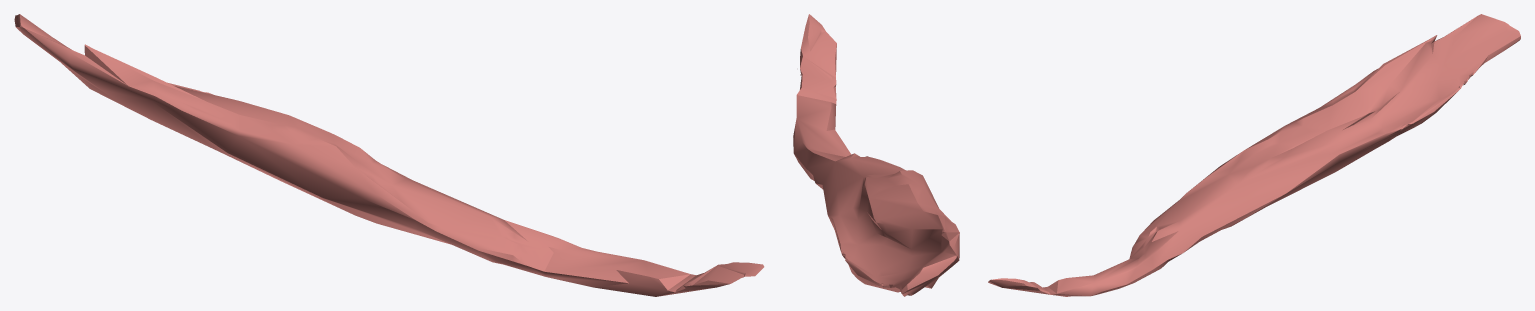
File: fma37472_fj1391m.glb
The picture shows the model from 3 angles, left to right: view 1: azimuth 30°, elevation 25°; view 2: azimuth 150°, elevation 25°; view 3: azimuth 270°, elevation 25°; orthographic projection. The views are drawn at different scales.
Visible parts, largest first — view 1: FMA37472_FJ1391M; view 2: FMA37472_FJ1391M; view 3: FMA37472_FJ1391M.
Boxes of the visible parts, x1,y1,x2,y2 form: FMA37472_FJ1391M: (14, 14, 764, 296); FMA37472_FJ1391M: (793, 14, 959, 296); FMA37472_FJ1391M: (988, 14, 1520, 296).
Bounding box in the file's own units: 0.0465 × 0.0178 × 0.0618.
